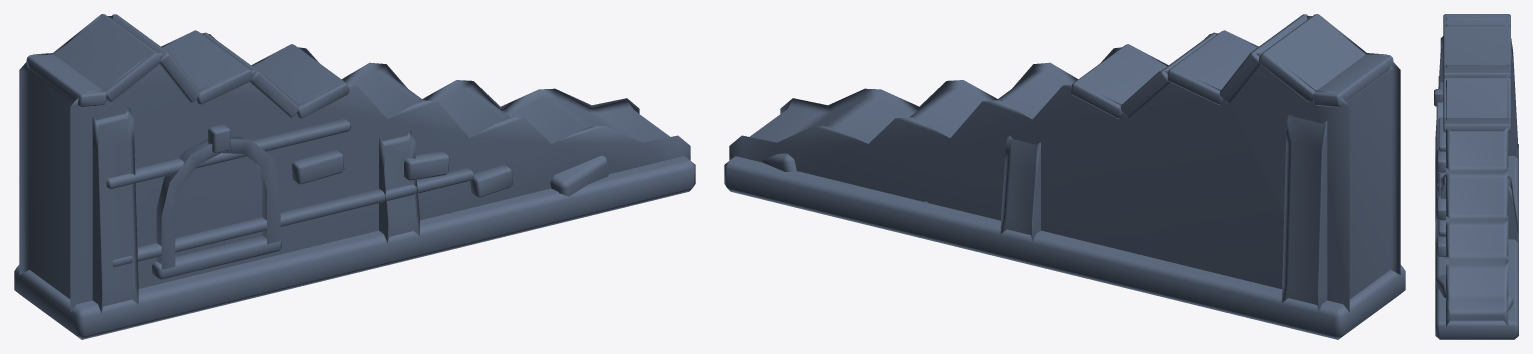
File: FortressWallBroken.fbx
3 renders of one model, left to right at view 1: azimuth 30°, elevation 25°; view 2: azimuth 150°, elevation 25°; view 3: azimuth 270°, elevation 25°, orthographic. The views are drawn at different scales.
Parts seen in each view (by area): view 1: FortressWallBroken_Mesh; view 2: FortressWallBroken_Mesh; view 3: FortressWallBroken_Mesh.
Boxes of the visible parts, left/top/right/bottom form: FortressWallBroken_Mesh: left=14, top=14, right=695, bottom=339; FortressWallBroken_Mesh: left=724, top=14, right=1405, bottom=339; FortressWallBroken_Mesh: left=1434, top=14, right=1518, bottom=339.
Size of the model in its own units: 7.72 by 3.16 by 1.5.
